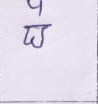ai_matra: (27, 0, 45, 16)
